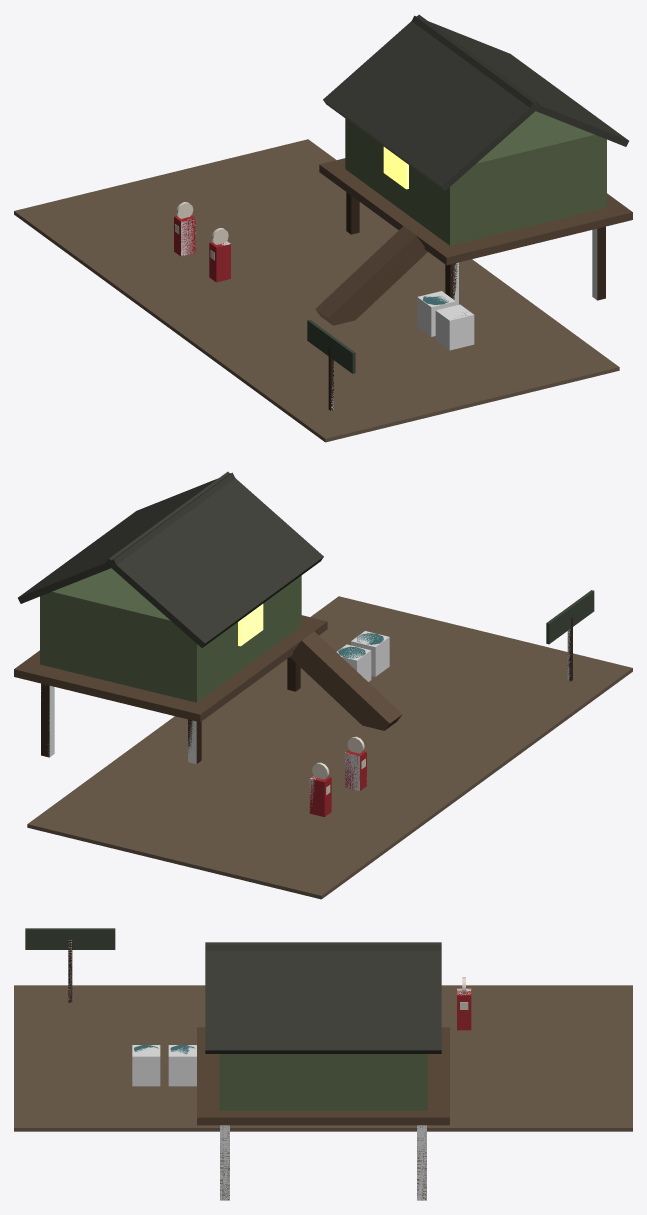
File: station-swamp.glb
3 views of the same model, one above another, from view 1: azimuth 30°, elevation 25°; view 2: azimuth 150°, elevation 25°; view 3: azimuth 270°, elevation 25° (orthographic).
Parts seen in each view (by area): view 1: 06_#6a5a48_noshadow, 09_#3a3a34, 08_#5a6a4a, 07_#5a4636, 11_#5a4636_noshadow, 05_#3a2a1e, solid.003, 00_#a3262c_r320, 04_#3c4638_noshadow, solid.002, 10_#e8c070_noshadow; view 2: 06_#6a5a48_noshadow, 09_#3a3a34, 08_#5a6a4a, 07_#5a4636, 11_#5a4636_noshadow, 05_#3a2a1e, 00_#a3262c_r320, 04_#3c4638_noshadow, solid.003, 10_#e8c070_noshadow, solid.002; view 3: 06_#6a5a48_noshadow, 09_#3a3a34, 08_#5a6a4a, 07_#5a4636, 04_#3c4638_noshadow, solid.003, solid.002, solid.007, solid.008, 05_#3a2a1e, 00_#a3262c_r320.
Boxes of the visible parts, <box> form: 06_#6a5a48_noshadow: <box>14,139,619,442</box>; 09_#3a3a34: <box>323,14,628,190</box>; 08_#5a6a4a: <box>345,111,606,245</box>; 07_#5a4636: <box>319,158,632,265</box>; 11_#5a4636_noshadow: <box>315,226,427,325</box>; 05_#3a2a1e: <box>328,192,605,410</box>; solid.003: <box>435,304,474,350</box>; 00_#a3262c_r320: <box>174,215,230,282</box>; 04_#3c4638_noshadow: <box>307,319,355,373</box>; solid.002: <box>417,291,455,336</box>; 10_#e8c070_noshadow: <box>383,147,408,189</box>; 06_#6a5a48_noshadow: <box>27,596,632,899</box>; 09_#3a3a34: <box>18,471,323,647</box>; 08_#5a6a4a: <box>40,568,301,702</box>; 07_#5a4636: <box>14,615,327,722</box>; 11_#5a4636_noshadow: <box>290,631,402,730</box>; 05_#3a2a1e: <box>41,617,572,763</box>; 00_#a3262c_r320: <box>309,750,366,816</box>; 04_#3c4638_noshadow: <box>546,590,594,644</box>; solid.003: <box>351,631,389,676</box>; 10_#e8c070_noshadow: <box>238,604,263,646</box>; solid.002: <box>337,644,371,681</box>; 06_#6a5a48_noshadow: <box>14,985,632,1131</box>; 09_#3a3a34: <box>205,942,441,1053</box>; 08_#5a6a4a: <box>219,1054,427,1110</box>; 07_#5a4636: <box>197,1027,449,1125</box>; 04_#3c4638_noshadow: <box>25,928,115,949</box>; solid.003: <box>132,1045,160,1086</box>; solid.002: <box>168,1045,196,1086</box>; solid.007: <box>417,1125,426,1200</box>; solid.008: <box>220,1125,229,1200</box>; 05_#3a2a1e: <box>68,940,426,1199</box>; 00_#a3262c_r320: <box>457,989,471,1030</box>.
Bounding box in the file's own units: 16.33 × 8.61 × 22.
